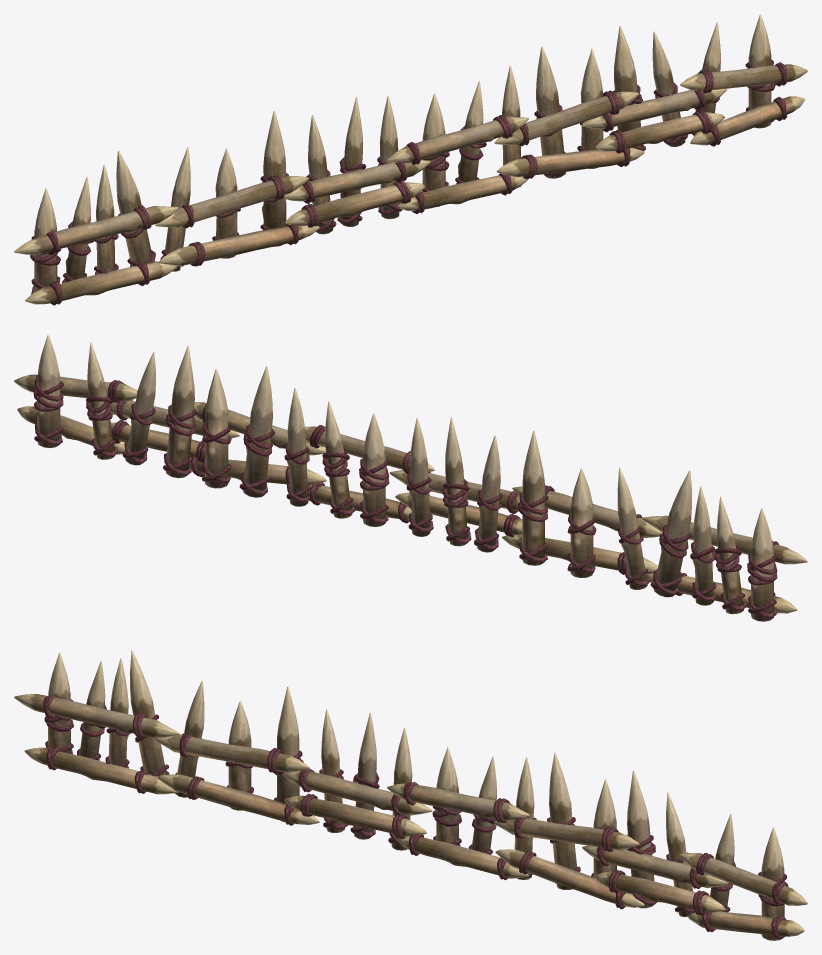
3 views of the same model, one above another, from view 1: azimuth 30°, elevation 25°; view 2: azimuth 150°, elevation 25°; view 3: azimuth 330°, elevation 25° (orthographic).
Parts seen in each view (by area): view 1: SM_Garou_Set_SM_SpikeFence_01_4x8_LOD0; view 2: SM_Garou_Set_SM_SpikeFence_01_4x8_LOD0; view 3: SM_Garou_Set_SM_SpikeFence_01_4x8_LOD0.
Part boxes in pixels (x1,y1,x2,y2): SM_Garou_Set_SM_SpikeFence_01_4x8_LOD0: (14, 14, 807, 305); SM_Garou_Set_SM_SpikeFence_01_4x8_LOD0: (14, 334, 807, 621); SM_Garou_Set_SM_SpikeFence_01_4x8_LOD0: (14, 650, 807, 940).
Size of the model in its own units: 8.64 by 1.41 by 0.3969.
Materials: 1 (1 with a texture image).
